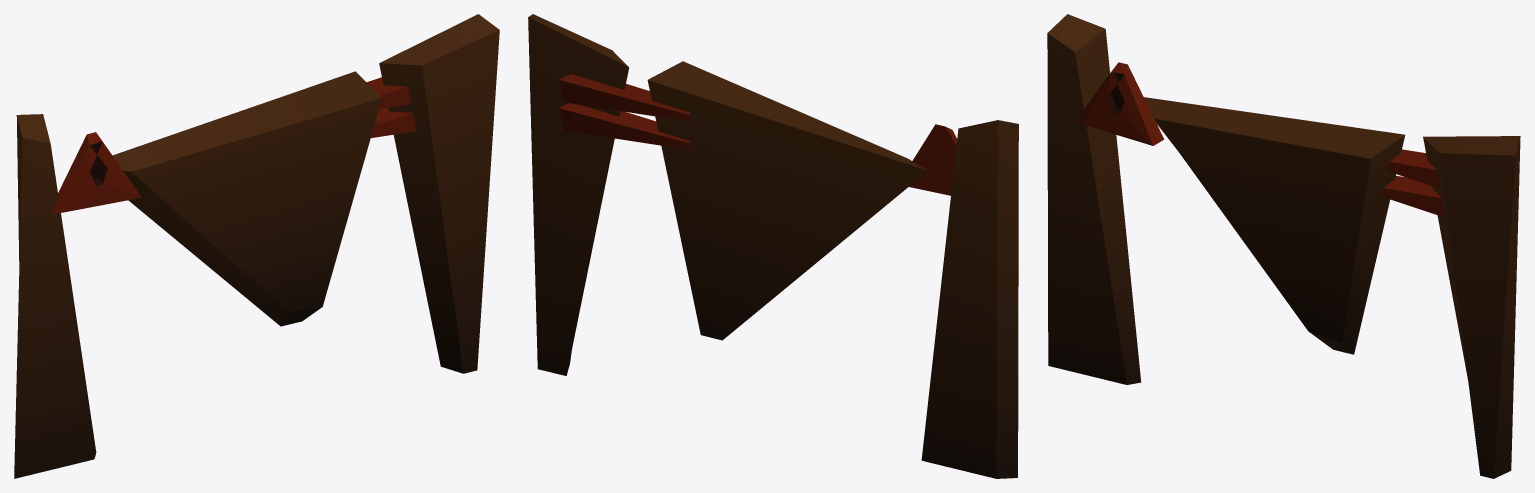
The model's file is c_fence_planks_wood_gate_aa.fbx.
The picture shows the model from 3 angles, left to right: view 1: azimuth 30°, elevation 25°; view 2: azimuth 150°, elevation 25°; view 3: azimuth 330°, elevation 25°; orthographic projection. The views are drawn at different scales.
Parts seen in each view (by area): view 1: c_fence_planks_wood_gate_aa; view 2: c_fence_planks_wood_gate_aa; view 3: c_fence_planks_wood_gate_aa.
Part boxes in pixels (x1,y1,x2,y2): c_fence_planks_wood_gate_aa: (14, 14, 499, 478); c_fence_planks_wood_gate_aa: (528, 14, 1018, 478); c_fence_planks_wood_gate_aa: (1047, 14, 1520, 478).
Size of the model in its own units: 1.84 by 1.3 by 0.2492.
